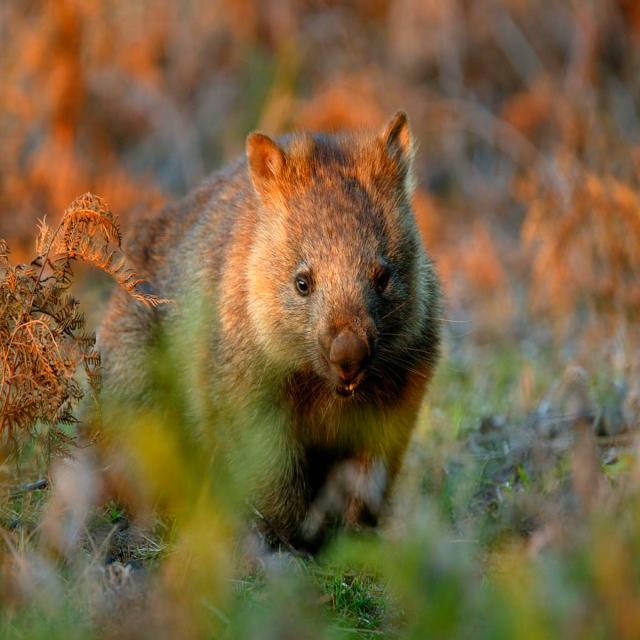wombats: (97, 110, 441, 546)
